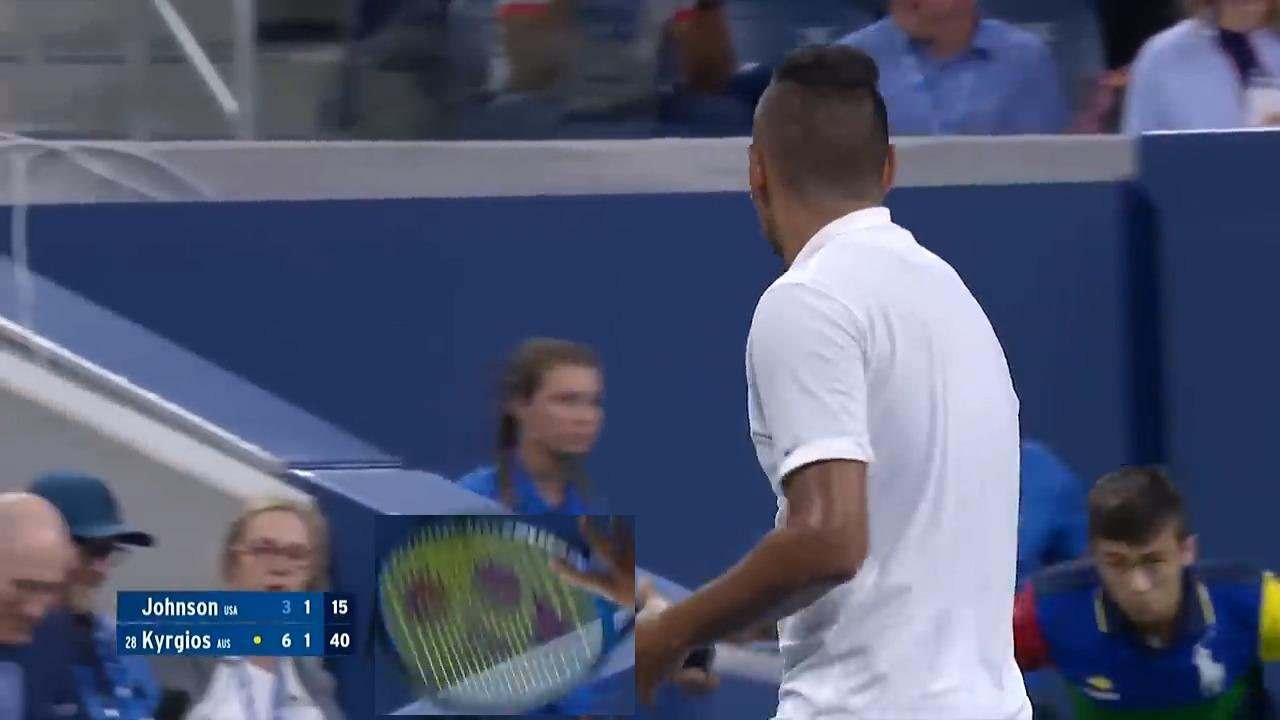tennis racket: (375, 515, 635, 715)
